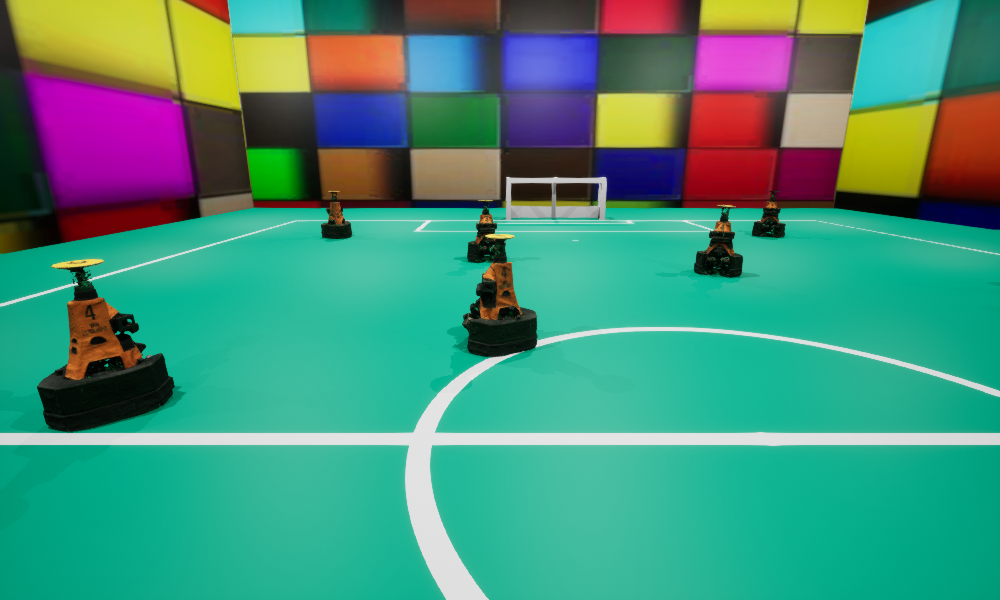o: (37, 259, 174, 431), (462, 234, 537, 356), (694, 205, 742, 276), (467, 200, 505, 262), (752, 191, 785, 236), (321, 191, 351, 238)
